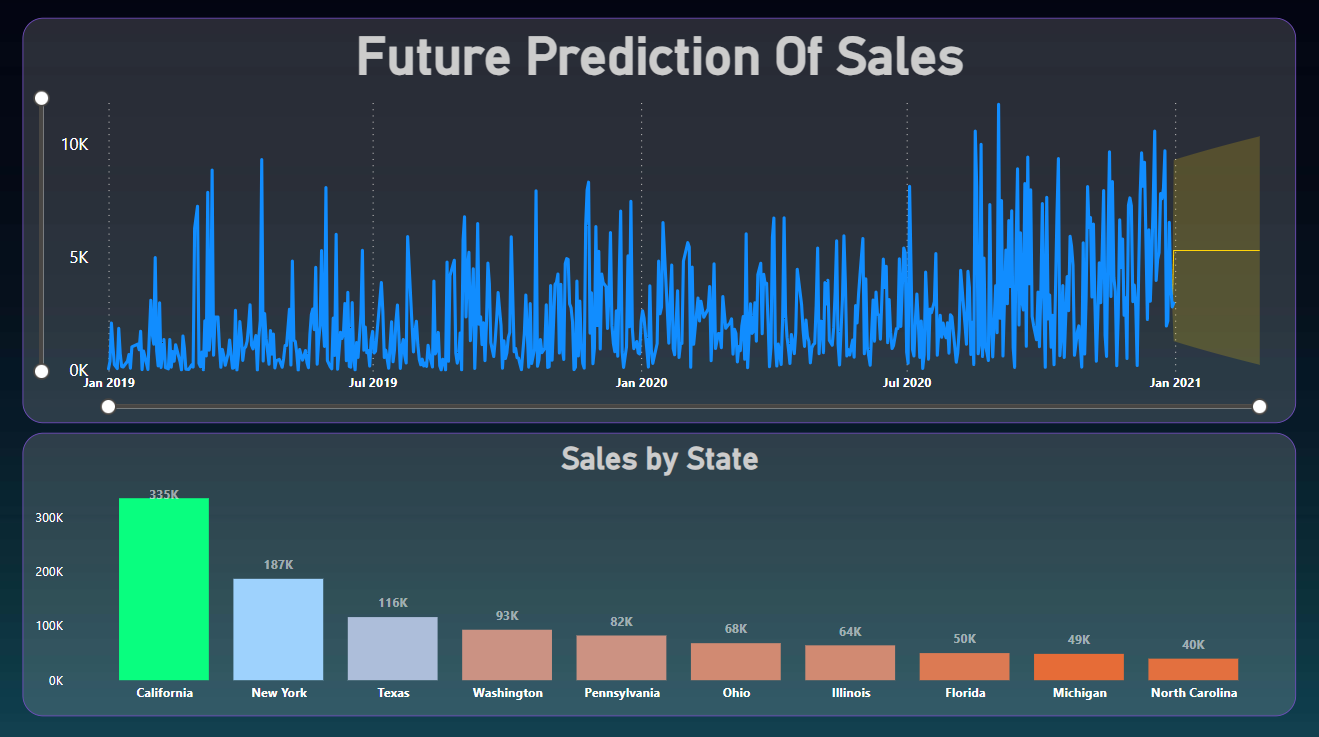

Layout of this report page (visuals, bound fields, positions):
{"tool":"powerbi","page":{"name":"Page 2","canvas":[1280,720],"ordinal":1},"visuals":[{"type":"lineChart","title":"Future Prediction Of Sales","fields":{"Category":["SalesForecast.Order Date"],"Y":["Sum(SalesForecast.Total Sales)"]},"box":[26.2,17.5,1228.8,391.2],"z":0},{"type":"columnChart","title":"Sales by State","fields":{"Category":["SuperStore_Sales_Dataset.State"],"Y":["Sum(SuperStore_Sales_Dataset.Sales)"]},"box":[26.2,418.8,1228.8,273.8],"z":1000}]}

Visuals, with their boxes in screenshot pixels (x1, y1, x2, y2), scaled from the page's 1280x720 canvas onto the 1319x737 screenshot:
"Future Prediction Of Sales" lineChart: Rect(27, 18, 1293, 418)
"Sales by State" columnChart: Rect(27, 429, 1293, 709)
